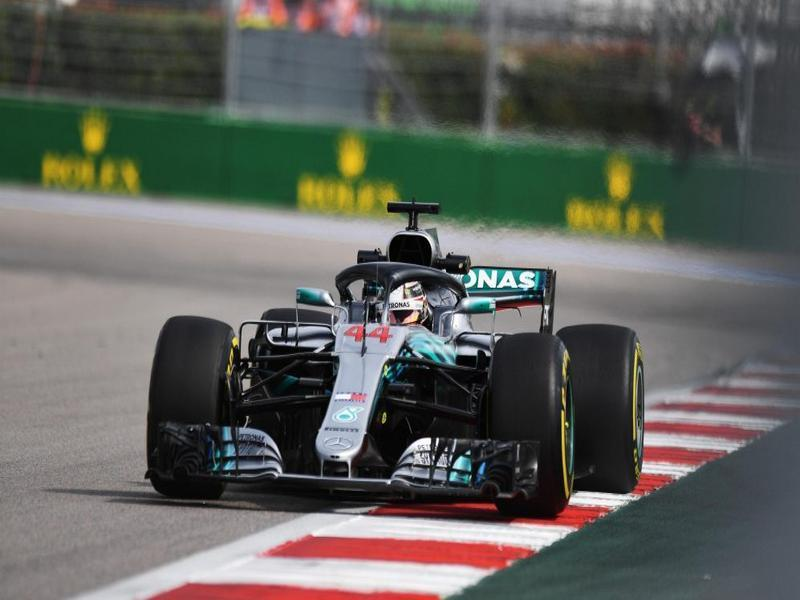f1: (136, 189, 656, 504)
